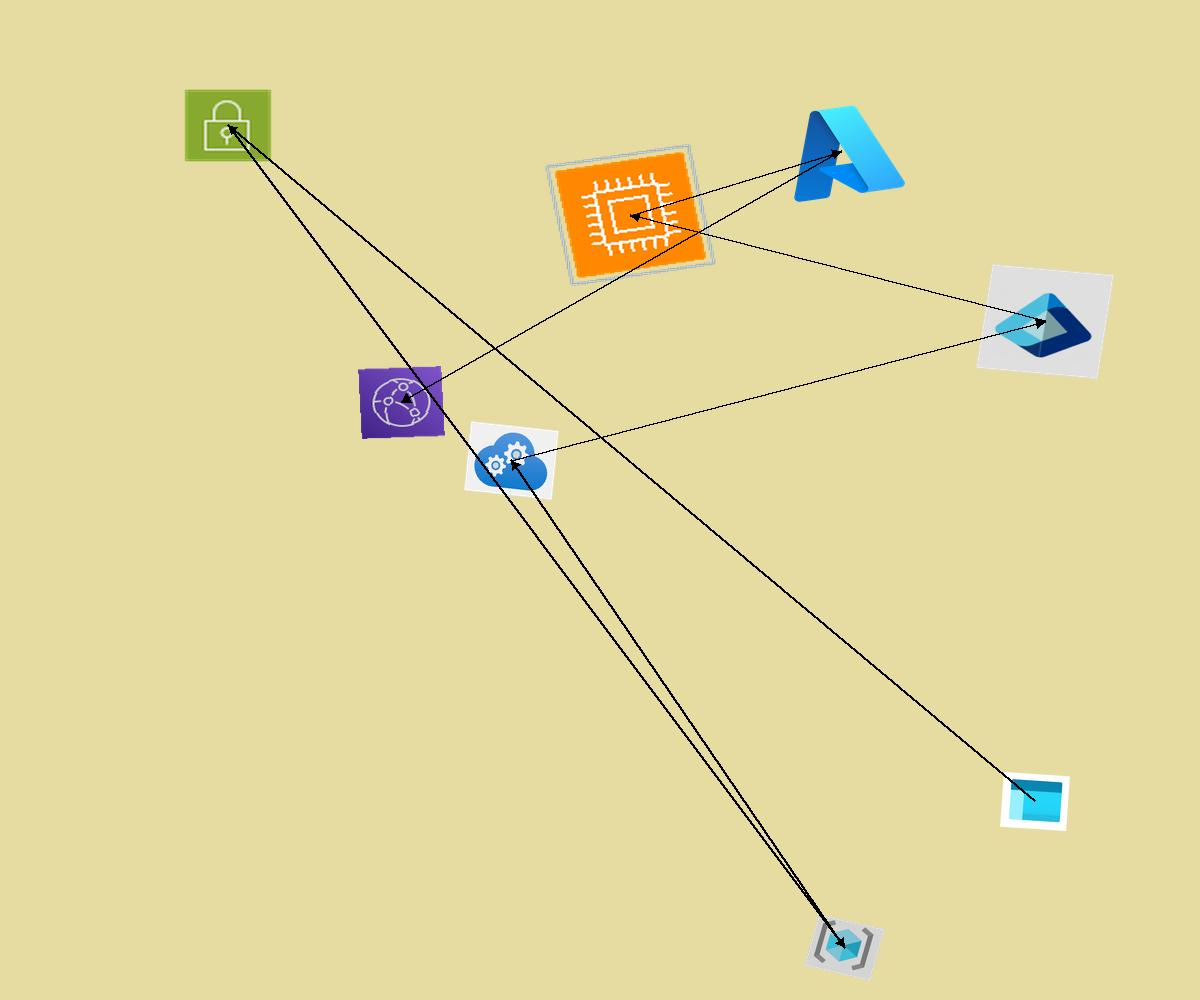AWS-Category_Compute: (544, 143, 717, 287)
AWS-CloudFront: (358, 366, 445, 439)
AWS-Public-subnet: (183, 88, 273, 163)
Azure_cloud_services: (464, 421, 559, 500)
Azure_management-portal: (1000, 772, 1070, 831)
Azure_microsoft_entra: (976, 264, 1114, 379)
Azure_resource_group: (804, 914, 885, 981)
Azure_services: (771, 93, 912, 210)
